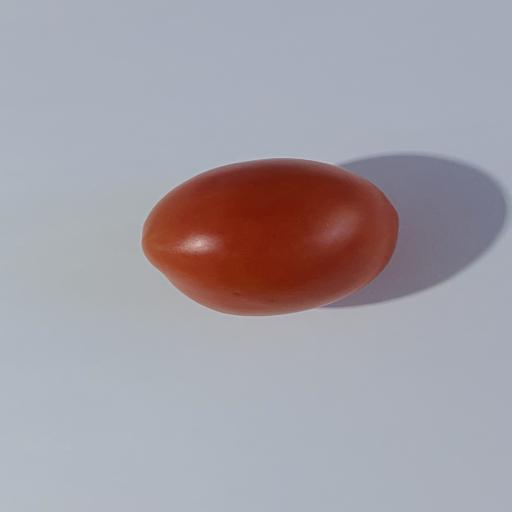ripe: (143, 159, 398, 316)
